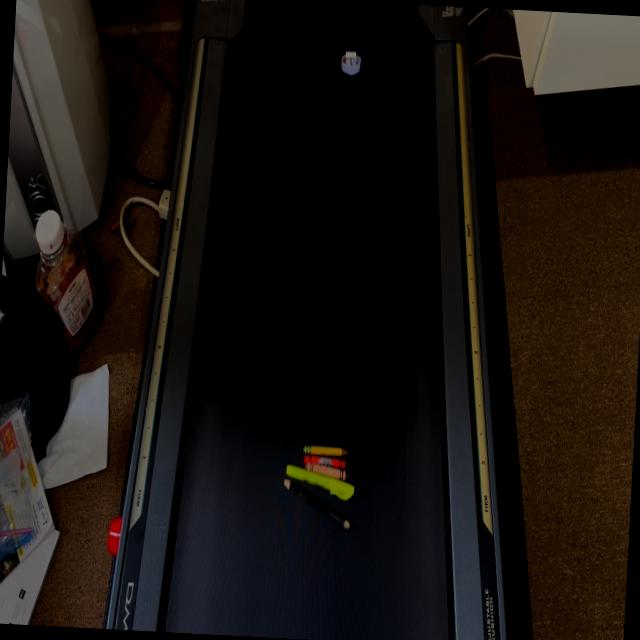Recycle: (339, 50, 363, 78)
Trash: (280, 473, 356, 534), (283, 460, 357, 502), (306, 462, 352, 482), (300, 454, 351, 472), (302, 441, 349, 460)
